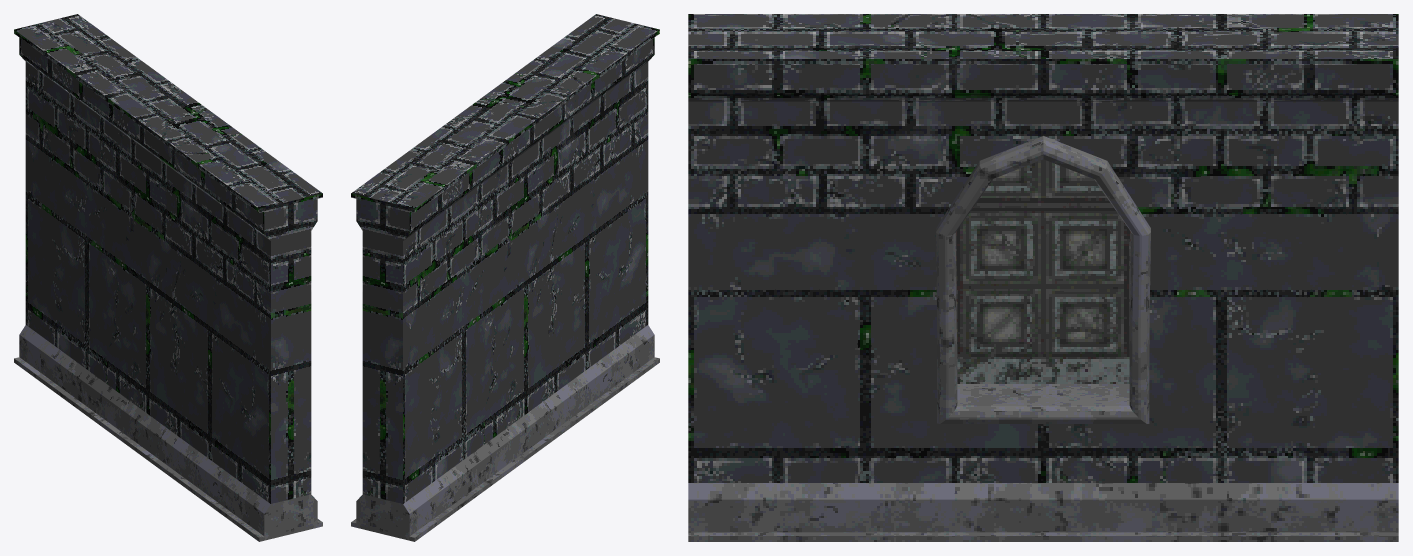
File: wall_w_arch_02.gltf
3 renders of one model, left to right at view 1: azimuth 30°, elevation 25°; view 2: azimuth 150°, elevation 25°; view 3: azimuth 270°, elevation 25°, orthographic. The views are drawn at different scales.
Parts seen in each view (by area): view 1: wall_w_arch_02; view 2: wall_w_arch_02; view 3: wall_w_arch_02.
Boxes of the visible parts, x1,y1,x2,y2 form: wall_w_arch_02: (14, 14, 322, 541); wall_w_arch_02: (351, 14, 659, 541); wall_w_arch_02: (688, 14, 1398, 541).
Bounding box in the file's own units: 0.6 × 3 × 4.
Materials: 1 (1 with a texture image).
